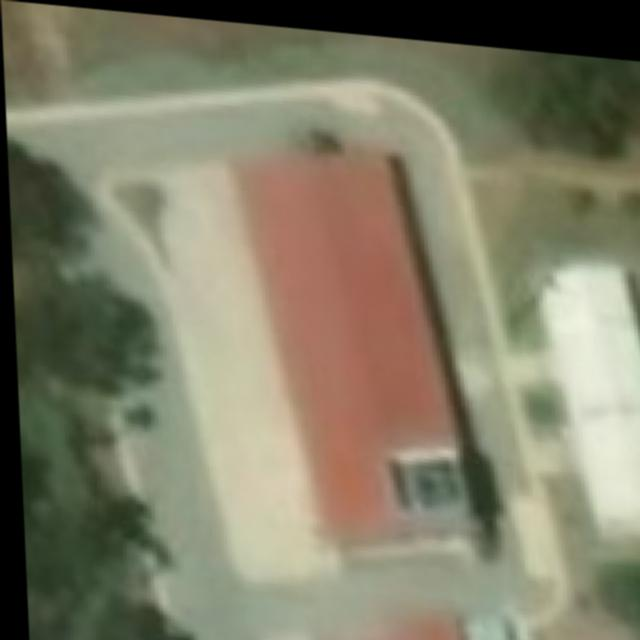Batiment: (240, 148, 455, 531), (541, 252, 640, 527), (361, 609, 459, 640)
